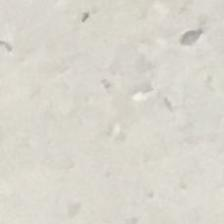Non_Crack: (6, 22, 224, 224)
